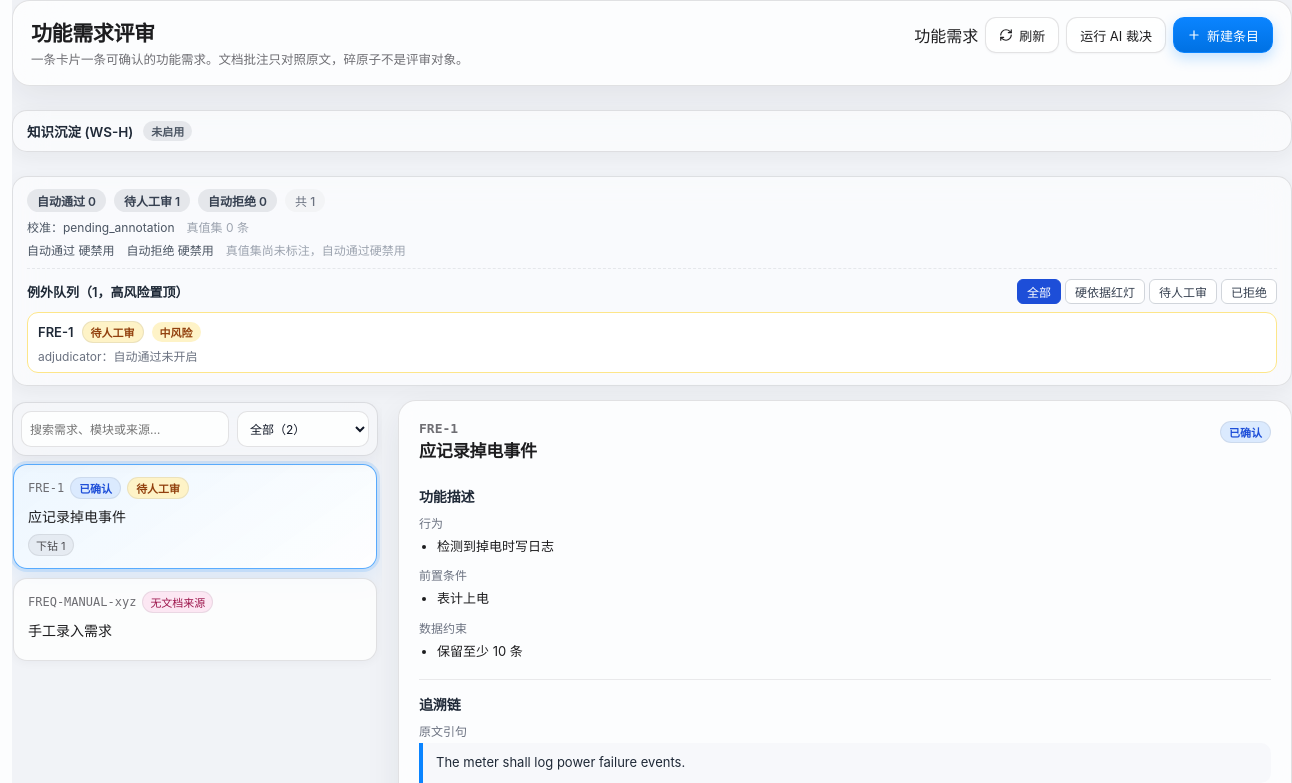
Scenario: FunctionalReview (WS-F) › marks manual / source-less items with 无文档来源 and renders the empty-traceability notice (Cap3)
The width and height of the screenshot is (1292, 783).
Click the button with test id "functional-card-FREQ-MANUAL-xyz": [82, 602] box x1=13 y1=578 x2=377 y2=661
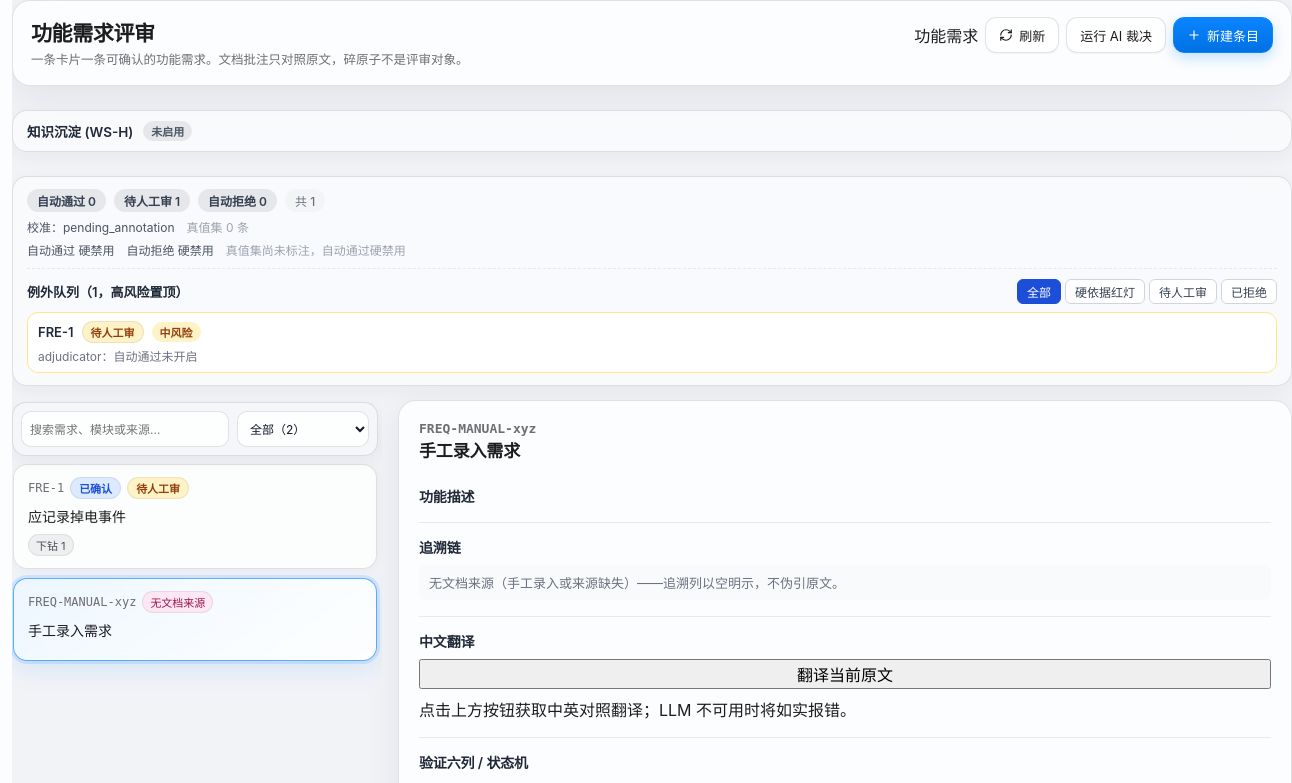
Check: the text "无文档来源（手工录入或来源缺失）——追溯列以空明示，不伪引原文。" is shown, box x1=419 y1=565 x2=1271 y2=600
Check: the text with test id "no-doc-source" shows "无文档来源", box x1=429 y1=575 x2=845 y2=591
